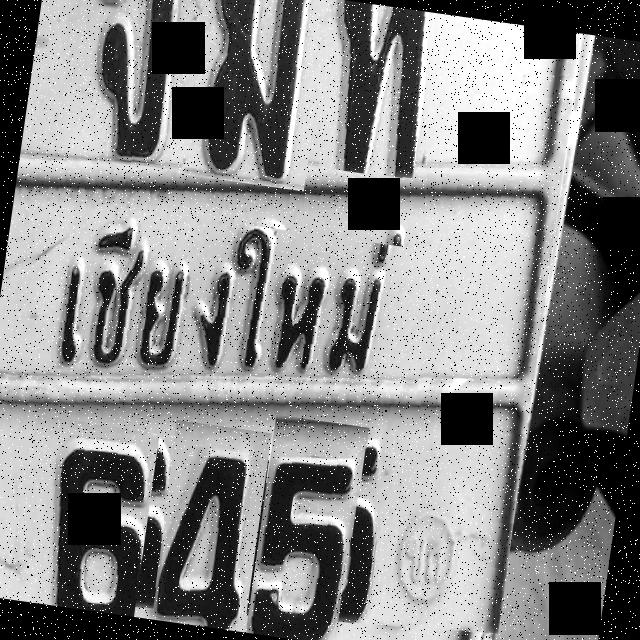letters: (10, 414, 160, 617), (183, 0, 331, 191), (46, 0, 208, 174), (245, 415, 369, 640), (149, 420, 272, 632), (307, 0, 436, 181)
license-plate: (0, 0, 582, 640)
province: (0, 192, 444, 424)
